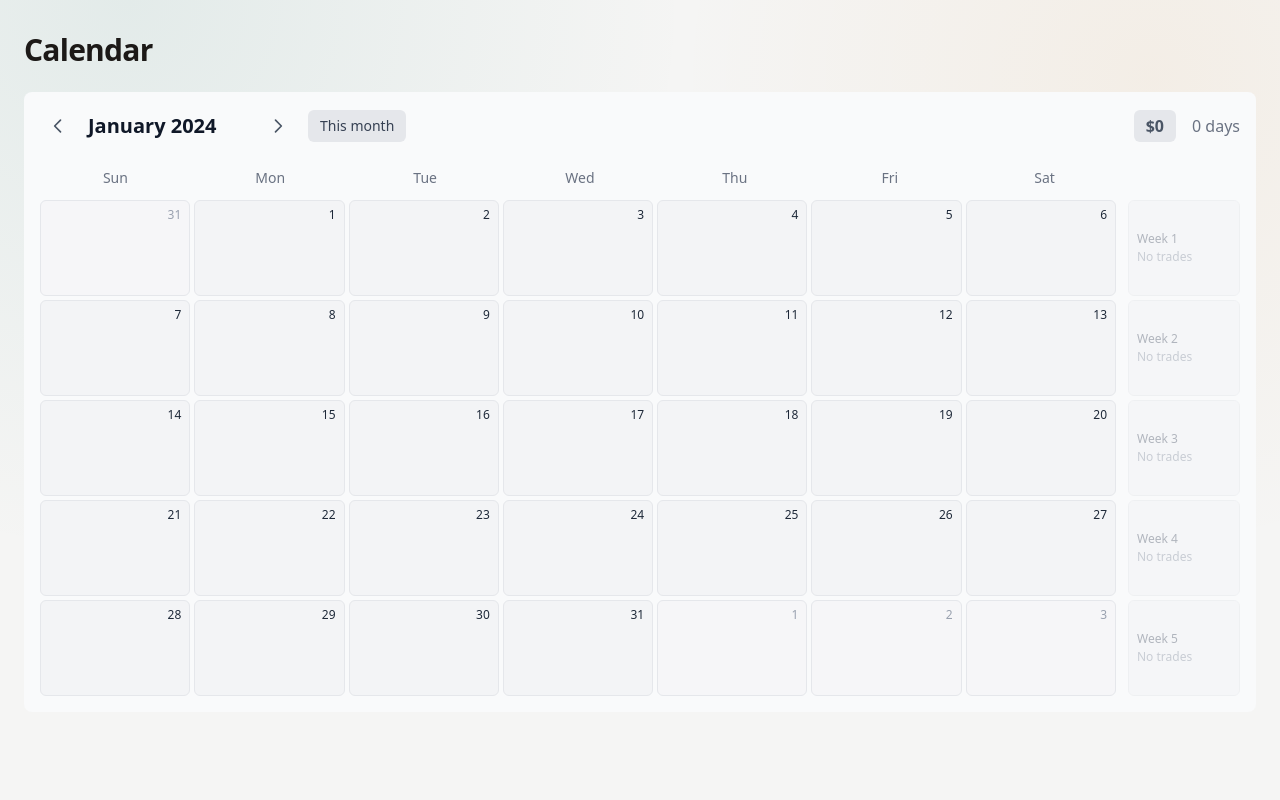
it: CalendarView › navigation › navigates to previous month
Click the button named "Previous month". click: (58, 126)
box: [40,108,76,144]
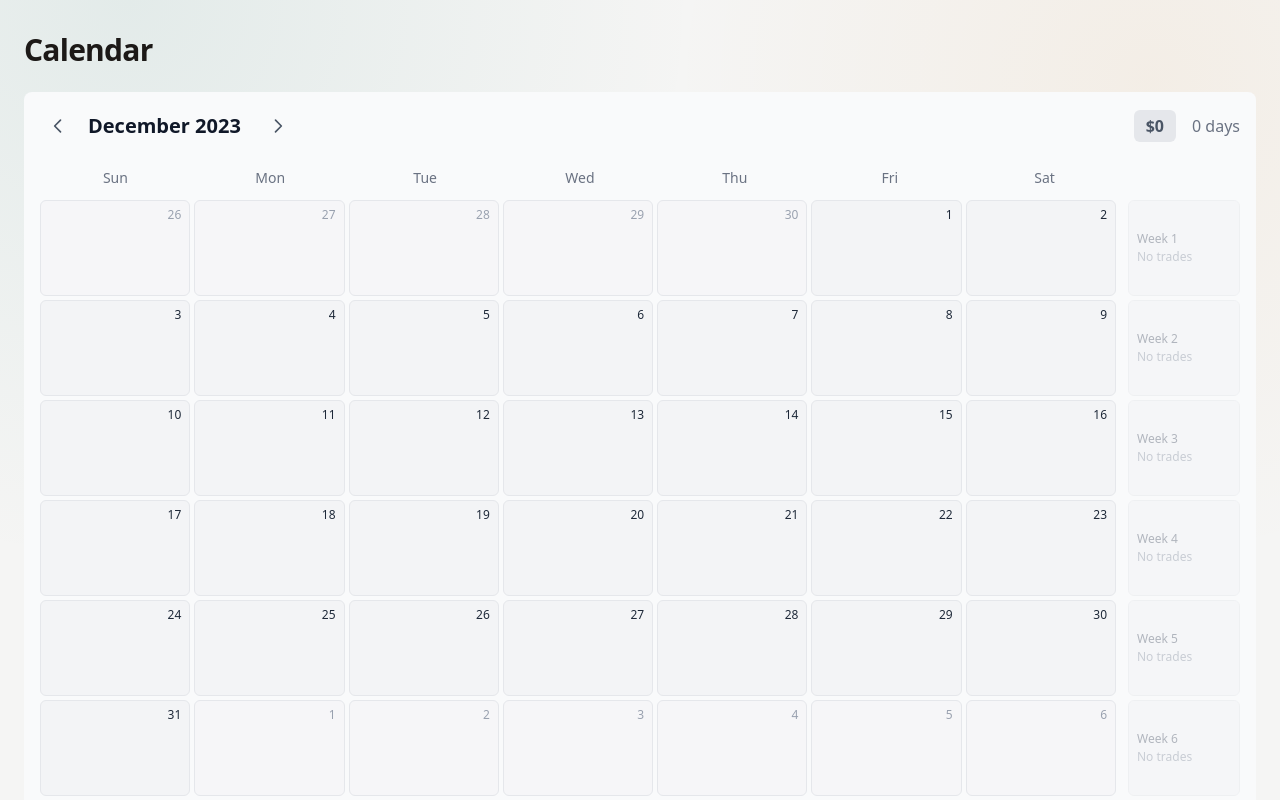
Expected: the heading "December 2023" is shown, [88,112,248,140]
